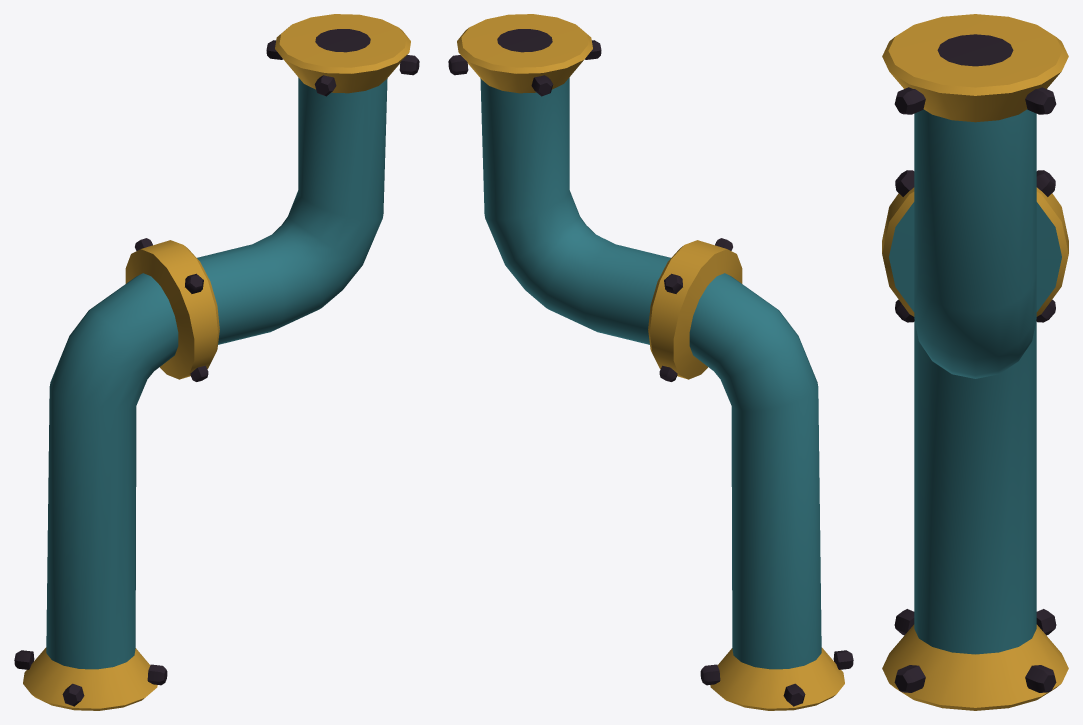
The model's file is PipeRun_24.glb.
3 views of the same model, side by side, from view 1: azimuth 30°, elevation 25°; view 2: azimuth 150°, elevation 25°; view 3: azimuth 270°, elevation 25° (orthographic). The views are drawn at different scales.
Parts seen in each view (by area): view 1: PipeRun_24; view 2: PipeRun_24; view 3: PipeRun_24.
Part boxes in pixels (x1,y1,x2,y2): PipeRun_24: [14, 14, 419, 710]; PipeRun_24: [448, 14, 853, 710]; PipeRun_24: [882, 14, 1068, 710].
Bounding box in the file's own units: 3.44 × 5.16 × 1.1.
